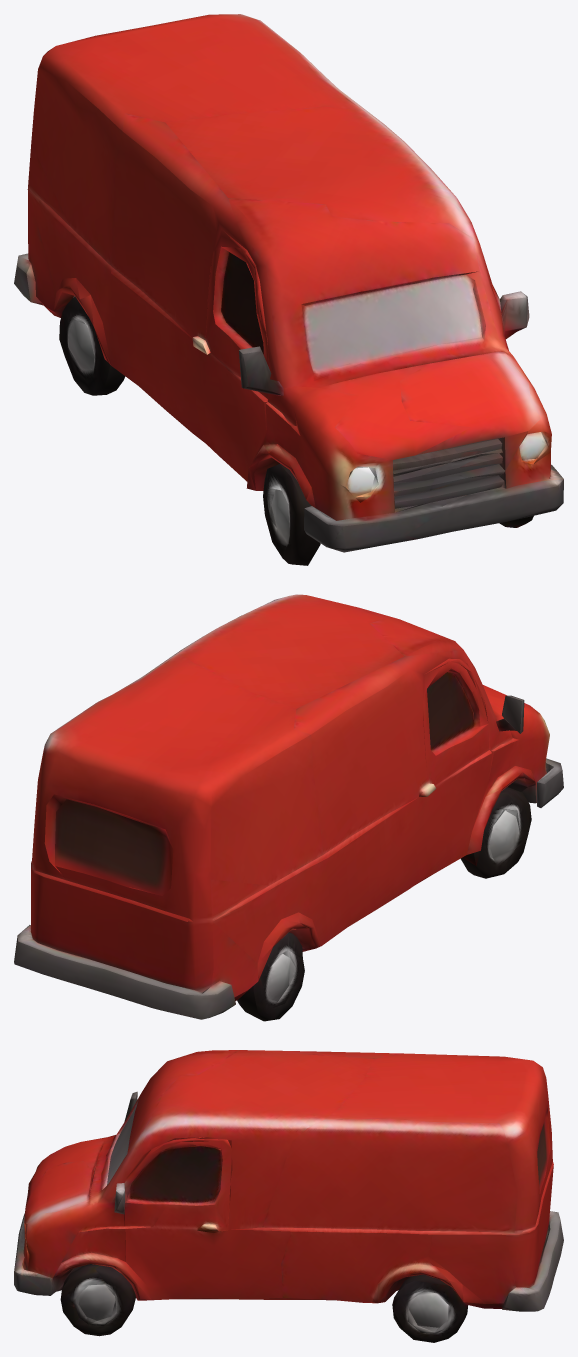
File: postVan.glb
3 renders of one model, top to bottom at view 1: azimuth 30°, elevation 25°; view 2: azimuth 150°, elevation 25°; view 3: azimuth 270°, elevation 25°, orthographic. The views are drawn at different scales.
Parts seen in each view (by area): view 1: model; view 2: model; view 3: model.
Boxes of the visible parts, x1,y1,x2,y2 form: model: (14, 14, 563, 565); model: (14, 594, 563, 1021); model: (14, 1050, 563, 1342).
Size of the model in its own units: 0.8521 by 0.8401 by 1.9.
Materials: 1 (1 with a texture image).
